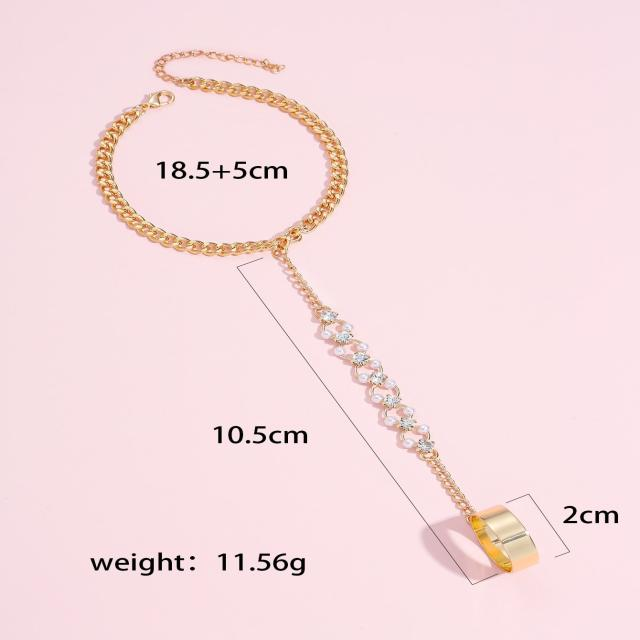bracelet: (62, 16, 418, 267)
